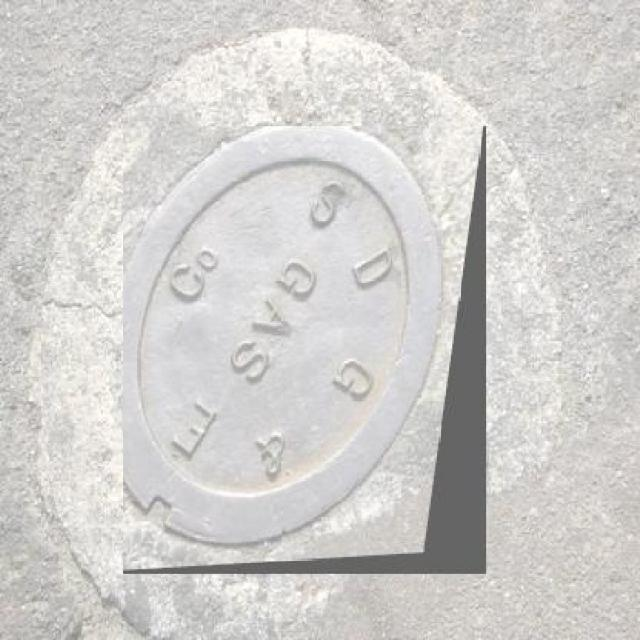Manhole: (123, 126, 486, 574)
